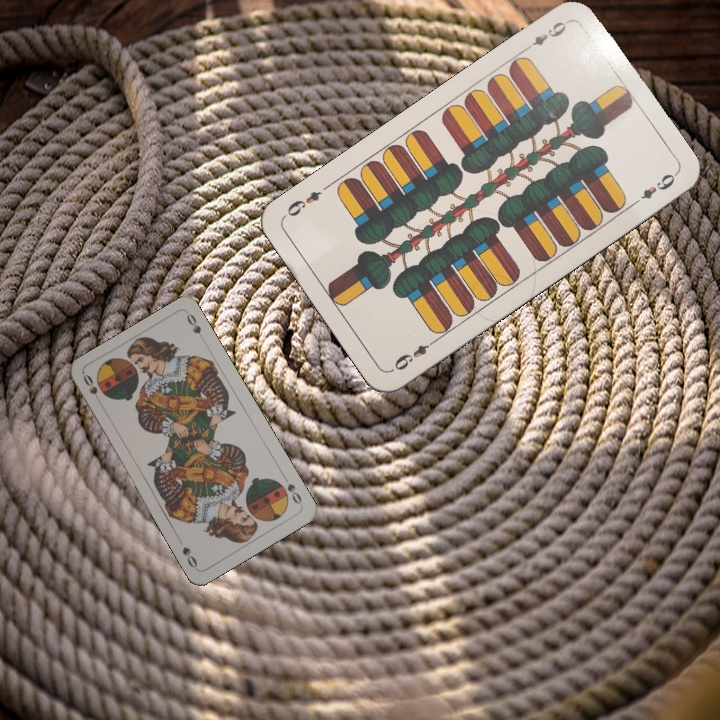E9: (388, 335, 440, 374), (528, 16, 572, 49)
SO: (79, 370, 105, 408), (279, 472, 305, 509)
